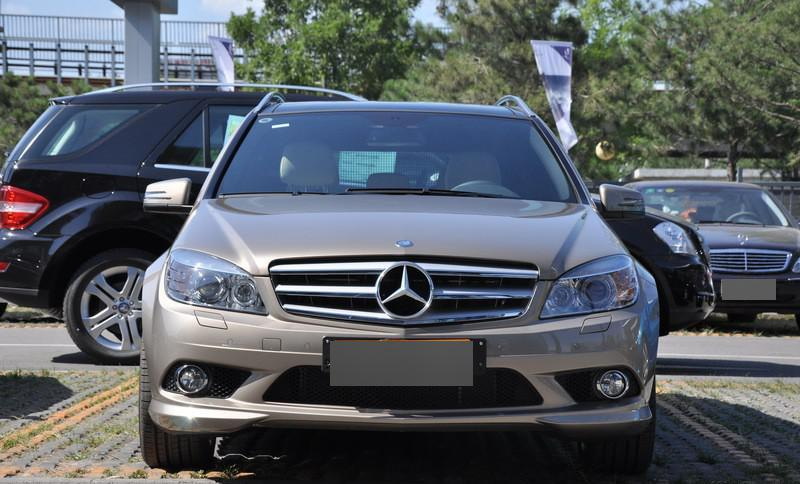Wagon: (138, 90, 661, 476)
